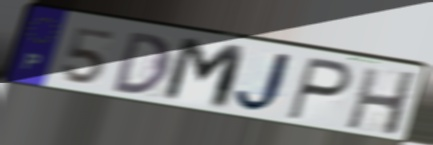5: (58, 24, 118, 86)
D: (110, 29, 174, 97)
H: (343, 65, 420, 139)
J: (232, 50, 300, 115)
M: (159, 35, 251, 114)
P: (284, 54, 356, 124)
